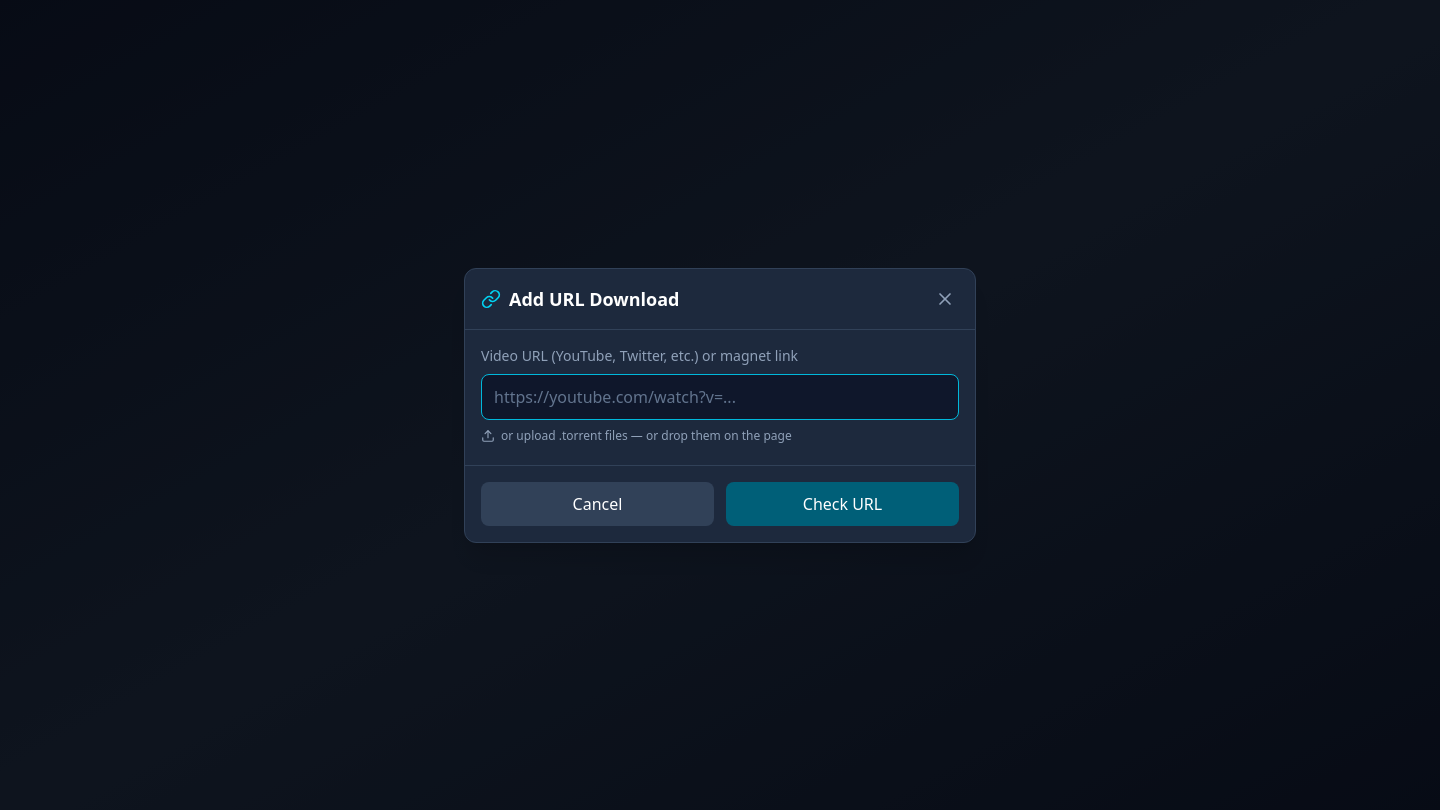
Test: AddUrlModal - basics › opens focused on the URL field with the check button disabled until something is typed
Expected: the heading "Add URL Download" is shown, [509, 284, 680, 312]
Expected: the button "Check URL" is disabled, [726, 482, 959, 526]
Type "youtube.com/watch?v=1" into the field with placeholder "https://youtube.com/watch?v=..." at (720, 396), box [481, 374, 959, 420]
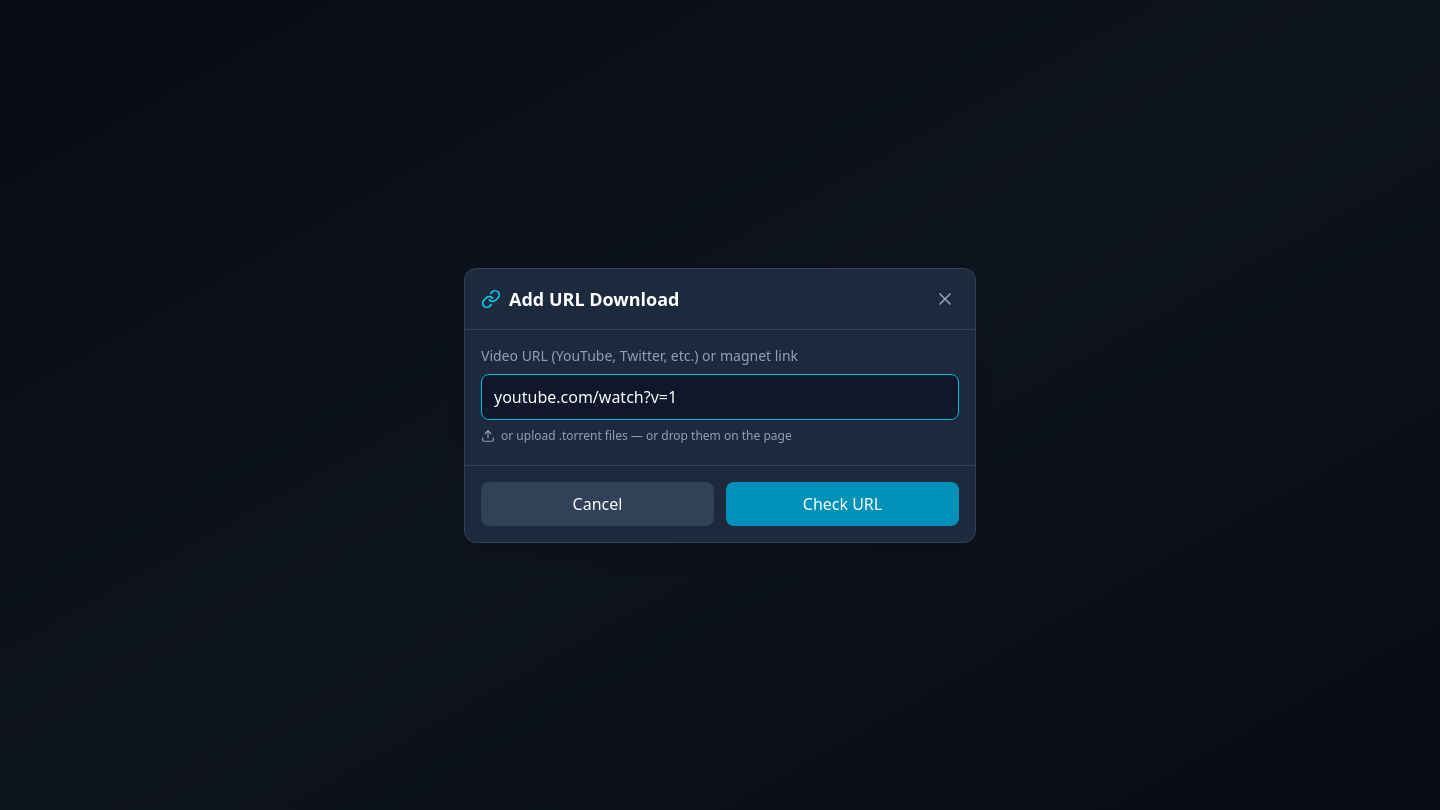
Expected: the button "Check URL" is enabled, [726, 482, 959, 526]
